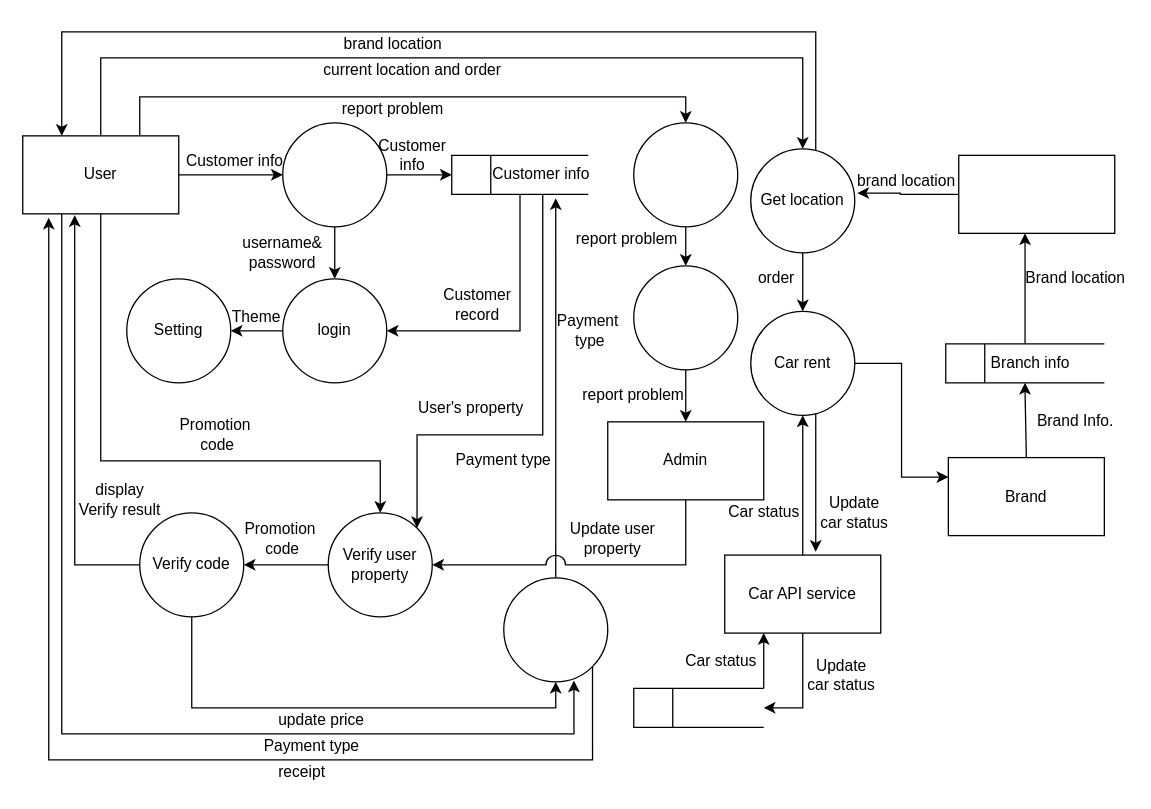
Some shapes in this 1151 by 809 pixel diagram are drawn without their labels. The box of each missing label's shape, as (x1, y1, x2, y2) in pixels:
Call center: (632, 122, 738, 227)
Car info.: (632, 687, 764, 727)
location API service: (957, 154, 1115, 233)
Payment: (502, 577, 608, 682)
receive problem: (632, 265, 738, 370)
register: (281, 122, 387, 227)
